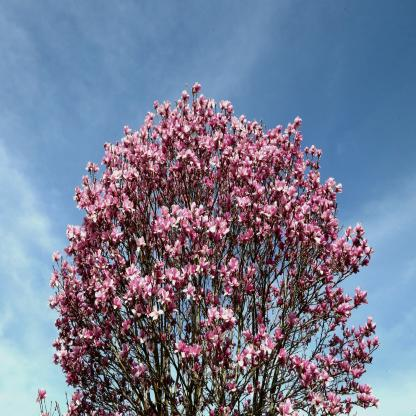Mokuren: (35, 82, 380, 416)
